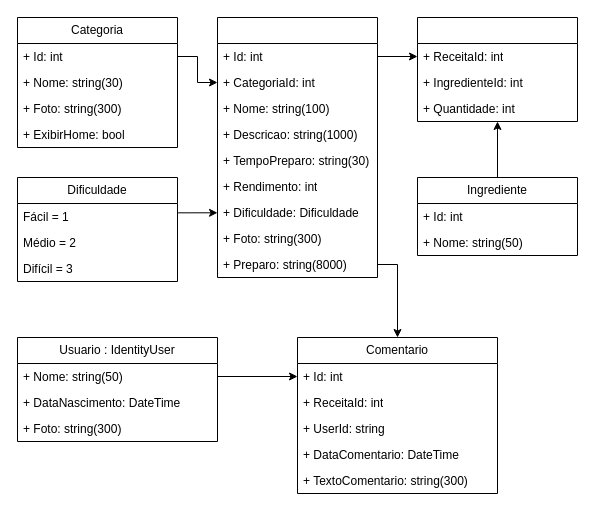
The diagram is 595 pixels wide and 514 high, and some of its shapes have lost their labels. Each missing label, with the box of its shape:
Receita: (216, 16, 378, 278)
ReceitaIngrediente: (416, 16, 578, 122)
